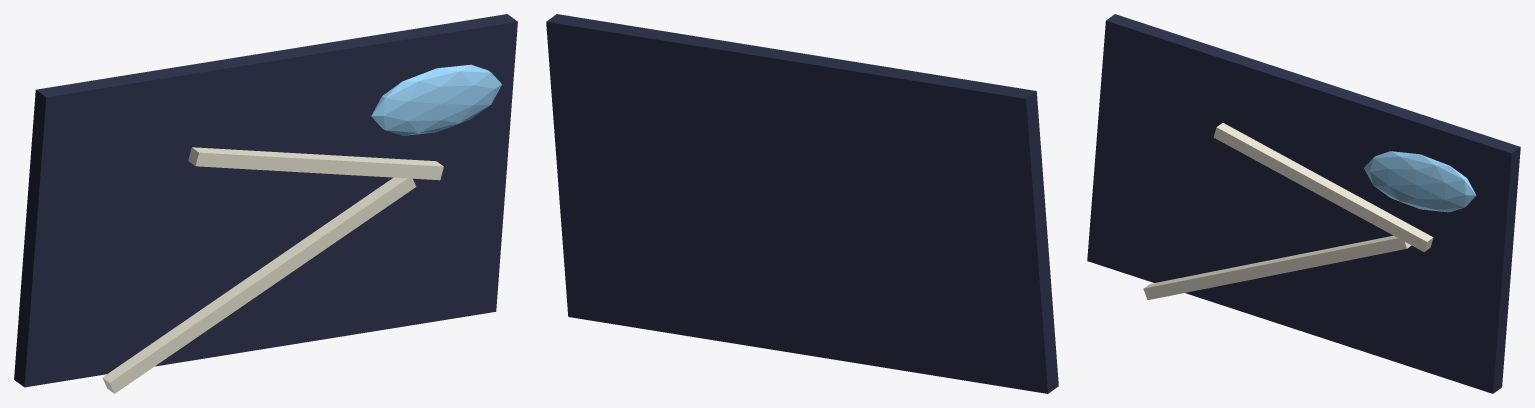
The model's file is 02_weathering_wear_overlay_2.glb.
The picture shows the model from 3 angles, left to right: view 1: azimuth 30°, elevation 25°; view 2: azimuth 150°, elevation 25°; view 3: azimuth 330°, elevation 25°; orthographic projection. The views are drawn at different scales.
Parts seen in each view (by area): view 1: wear_plate, scratch_a, rust_or_moss_spot, scratch_b; view 2: wear_plate; view 3: wear_plate, rust_or_moss_spot, scratch_b, scratch_a.
Boxes of the visible parts, left/top/right/bottom form: wear_plate: left=14, top=14, right=517, bottom=387; scratch_a: left=102, top=177, right=416, bottom=393; rust_or_moss_spot: left=371, top=64, right=501, bottom=135; scratch_b: left=188, top=147, right=443, bottom=180; wear_plate: left=546, top=14, right=1058, bottom=393; wear_plate: left=1087, top=14, right=1520, bottom=393; rust_or_moss_spot: left=1364, top=151, right=1476, bottom=212; scratch_b: left=1213, top=123, right=1433, bottom=251; scratch_a: left=1143, top=235, right=1411, bottom=299.
Bounding box in the file's own units: 1.36 × 0.851 × 0.134.
